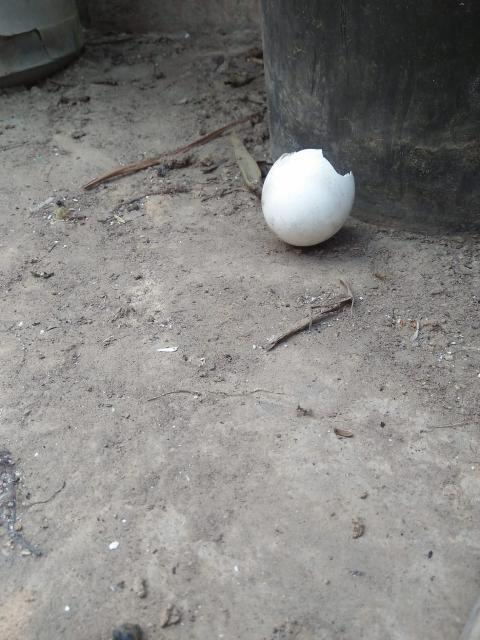Roto: (260, 147, 355, 247)
